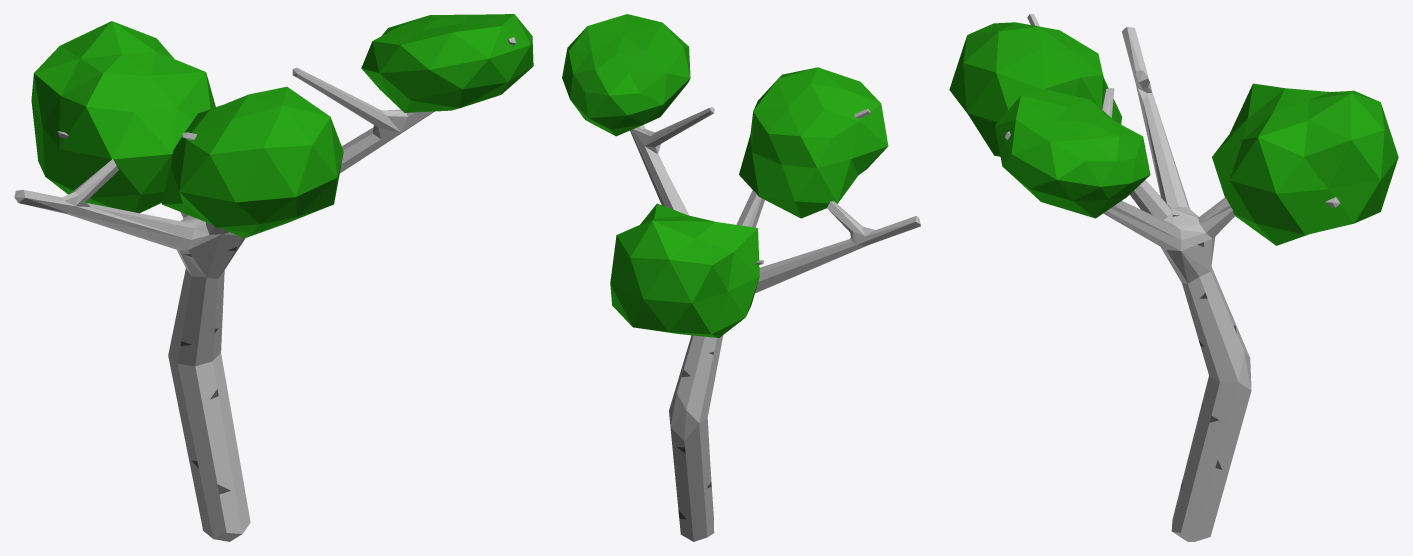
Rendered from Birch_2.fbx.
3 renders of one model, left to right at view 1: azimuth 30°, elevation 25°; view 2: azimuth 150°, elevation 25°; view 3: azimuth 270°, elevation 25°, orthographic. The views are drawn at different scales.
Visible parts, largest first — view 1: Birch2_mesh; view 2: Birch2_mesh; view 3: Birch2_mesh.
Part boxes in pixels (left/top/right/bottom): Birch2_mesh: left=14, top=14, right=533, bottom=541; Birch2_mesh: left=562, top=14, right=920, bottom=541; Birch2_mesh: left=949, top=14, right=1398, bottom=541.
Size of the model in its own units: 554 by 599 by 481.
